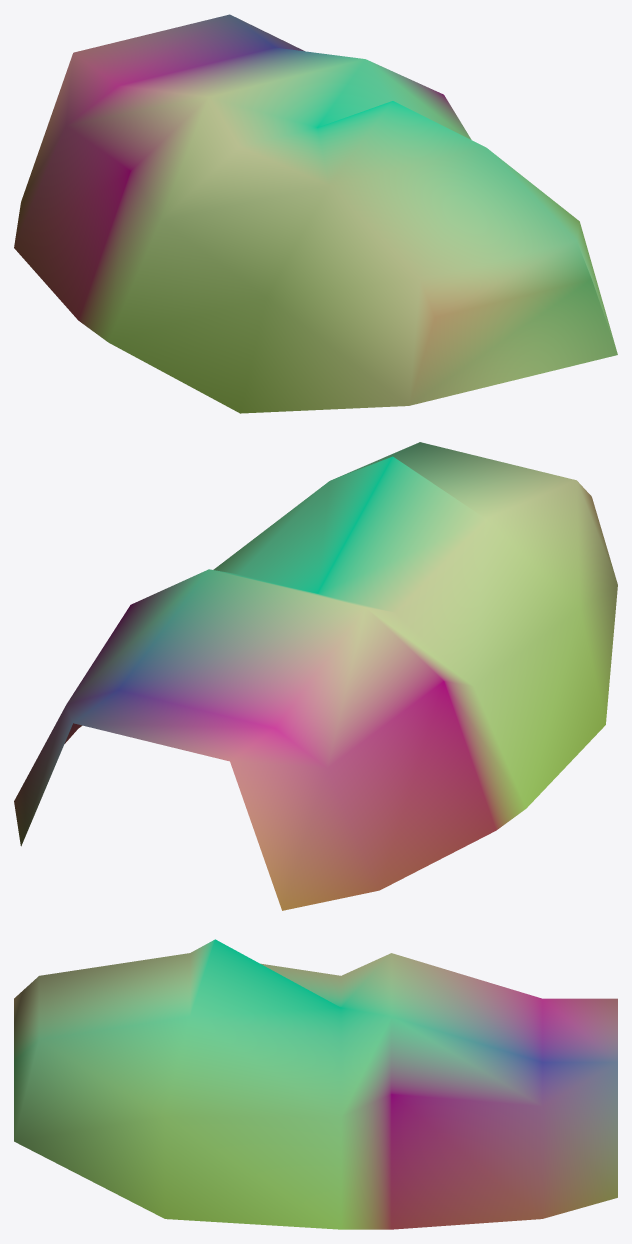
3 renders of one model, top to bottom at view 1: azimuth 30°, elevation 25°; view 2: azimuth 150°, elevation 25°; view 3: azimuth 270°, elevation 25°, orthographic. The views are drawn at different scales.
Parts seen in each view (by area): view 1: part; view 2: part; view 3: part.
Boxes of the visible parts, x1,y1,x2,y2 form: part: (14, 14, 617, 413); part: (14, 442, 617, 910); part: (14, 939, 617, 1229).
Bounding box in the file's own units: 16 × 9 × 24.
